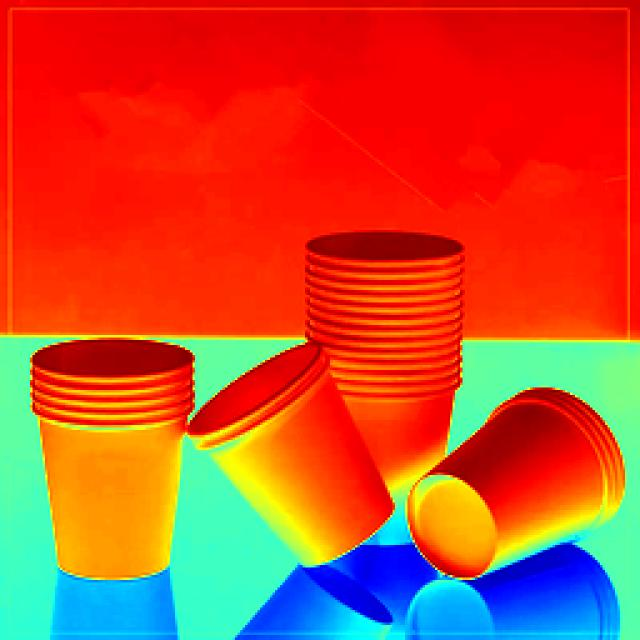Paper Cups: (196, 351, 391, 564), (400, 396, 618, 579), (32, 350, 198, 572), (296, 236, 461, 404)
